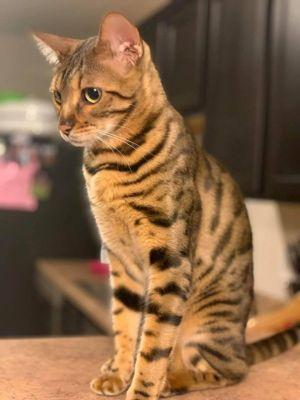bengal: (25, 6, 163, 156)
